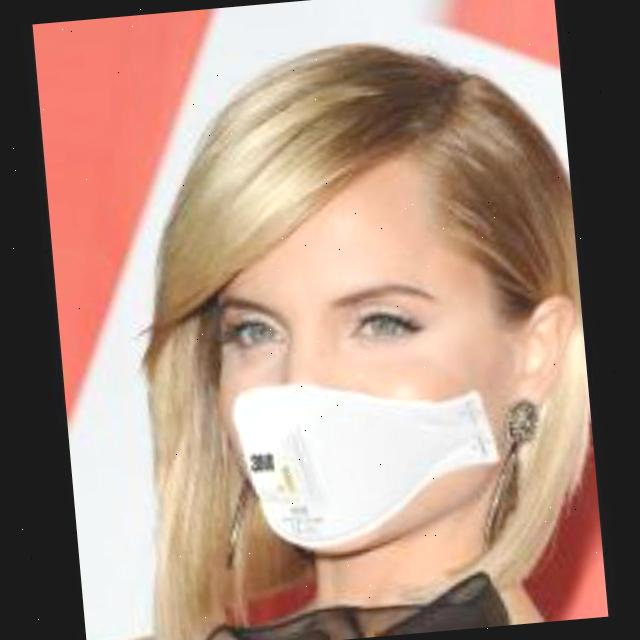suspicion: (199, 166, 532, 599)
